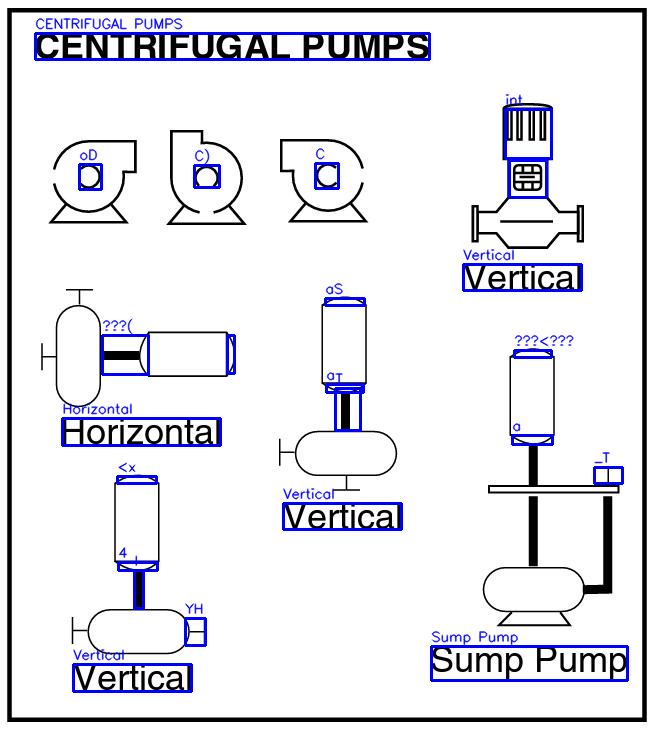Bomba: (477, 345, 628, 634), (65, 472, 212, 657), (33, 285, 240, 411), (273, 292, 400, 497), (466, 99, 588, 255), (44, 130, 142, 228), (276, 134, 377, 229), (163, 127, 254, 232)
